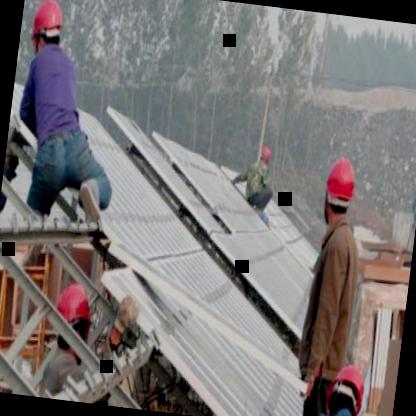helmet: (316, 148, 361, 236), (324, 360, 370, 416), (25, 0, 68, 57), (56, 284, 95, 336), (258, 143, 270, 168)
